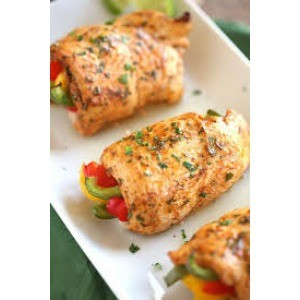chicken breast_brain food: (100, 125, 235, 195), (66, 27, 161, 110)
